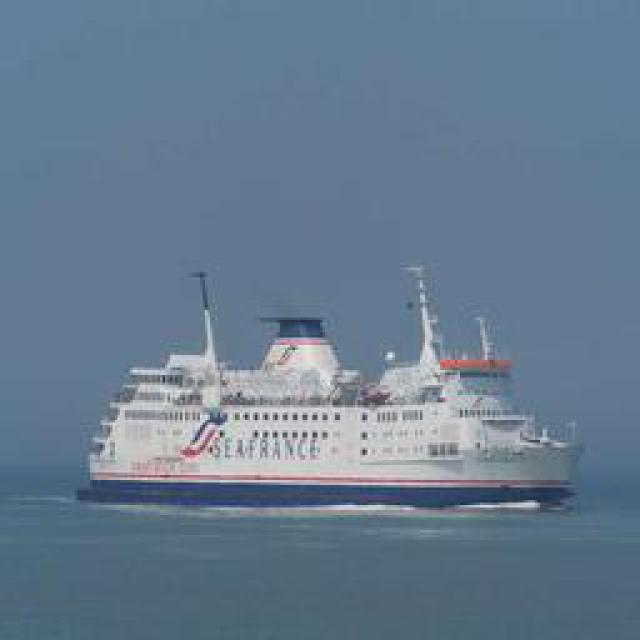Ship: (76, 268, 581, 516)
